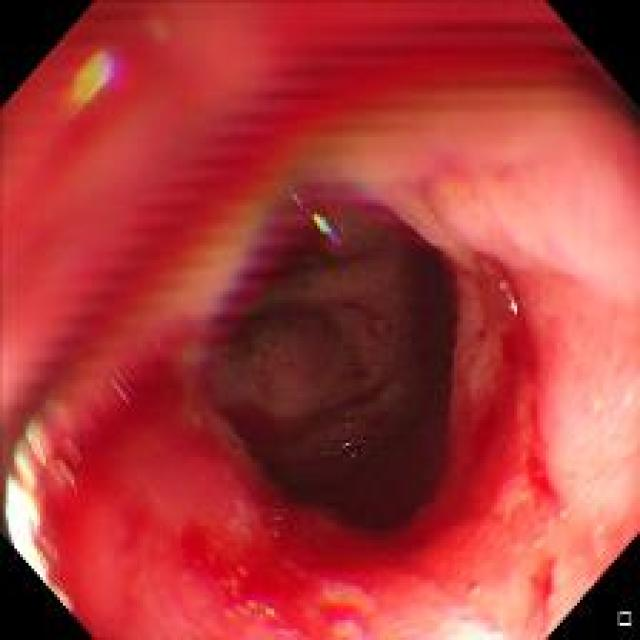blood: (49, 348, 414, 635), (412, 251, 564, 579), (521, 560, 565, 628)
color misalignment: (351, 26, 598, 95), (6, 414, 84, 578), (85, 182, 181, 305), (5, 275, 86, 404), (205, 208, 282, 324), (181, 108, 271, 188), (274, 62, 352, 152), (70, 45, 144, 116), (300, 201, 348, 250), (336, 415, 362, 461), (106, 366, 135, 405), (499, 285, 522, 320), (268, 508, 286, 539)
contrast: (204, 200, 472, 545)
saturation: (5, 501, 48, 559)
specularity: (435, 609, 504, 638)
